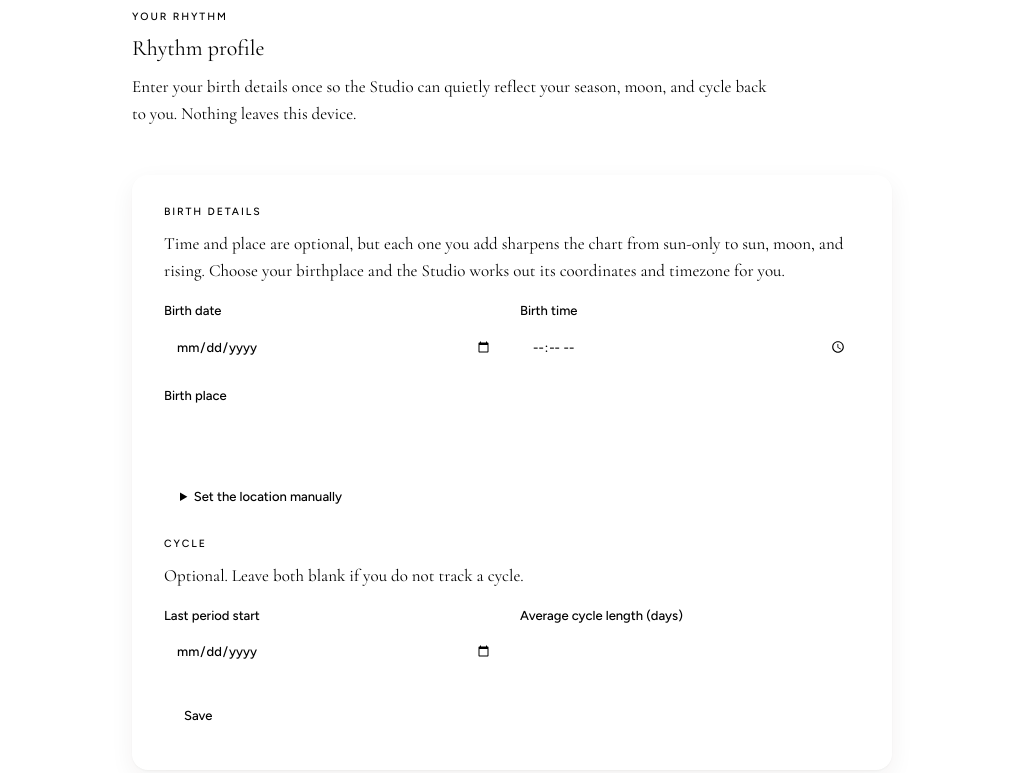
it: rejects a partially-filled cycle without saving
Type "2026-08-01" into the date field labelled "Last period start" at point(334, 652), box [164,630,504,674]
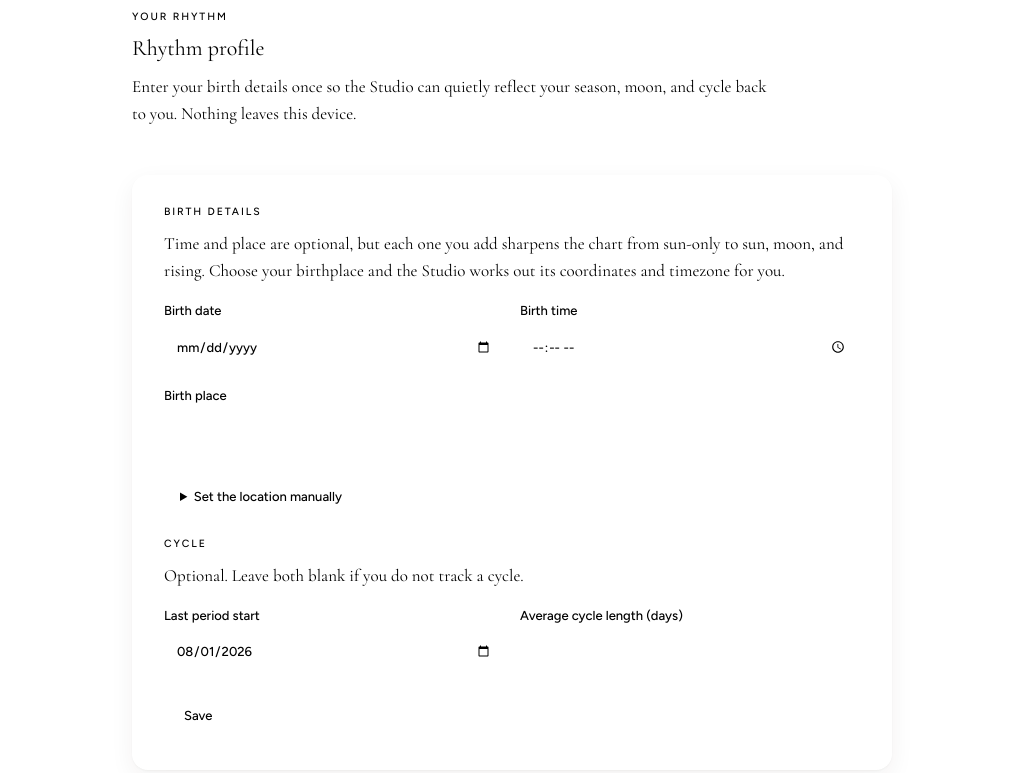
Click the button "Save" at point(198, 716), box [164,694,232,738]
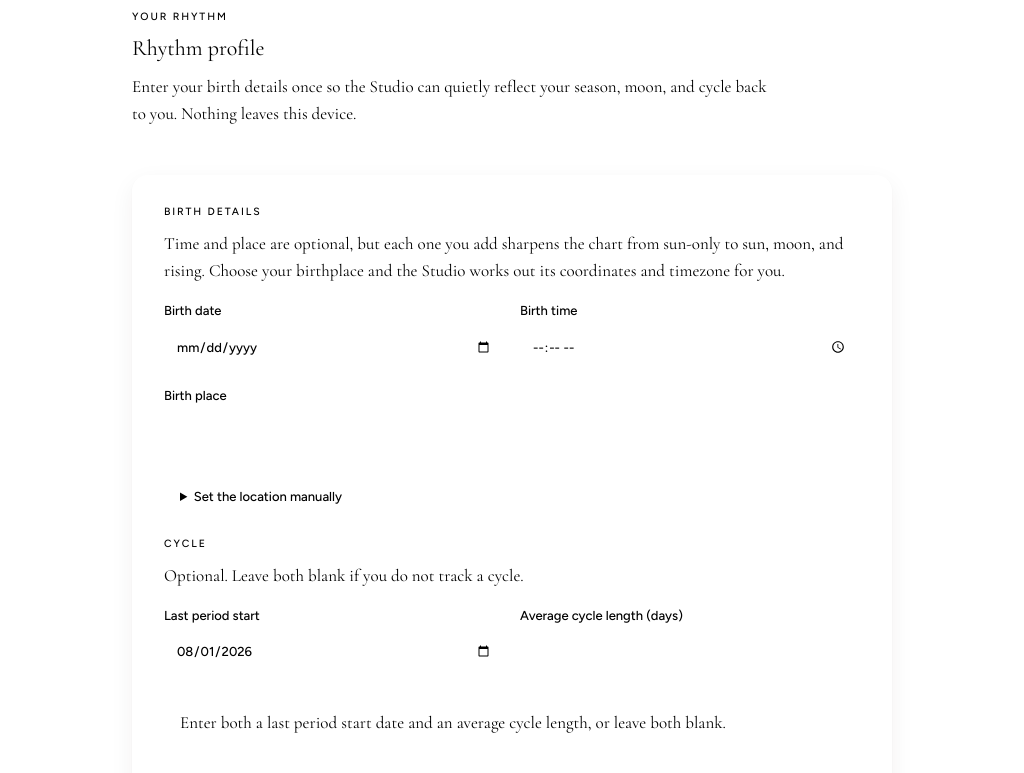
expect the message shows "Enter both a last period start date and an average cycle length": met, box [180,712,726,733]
